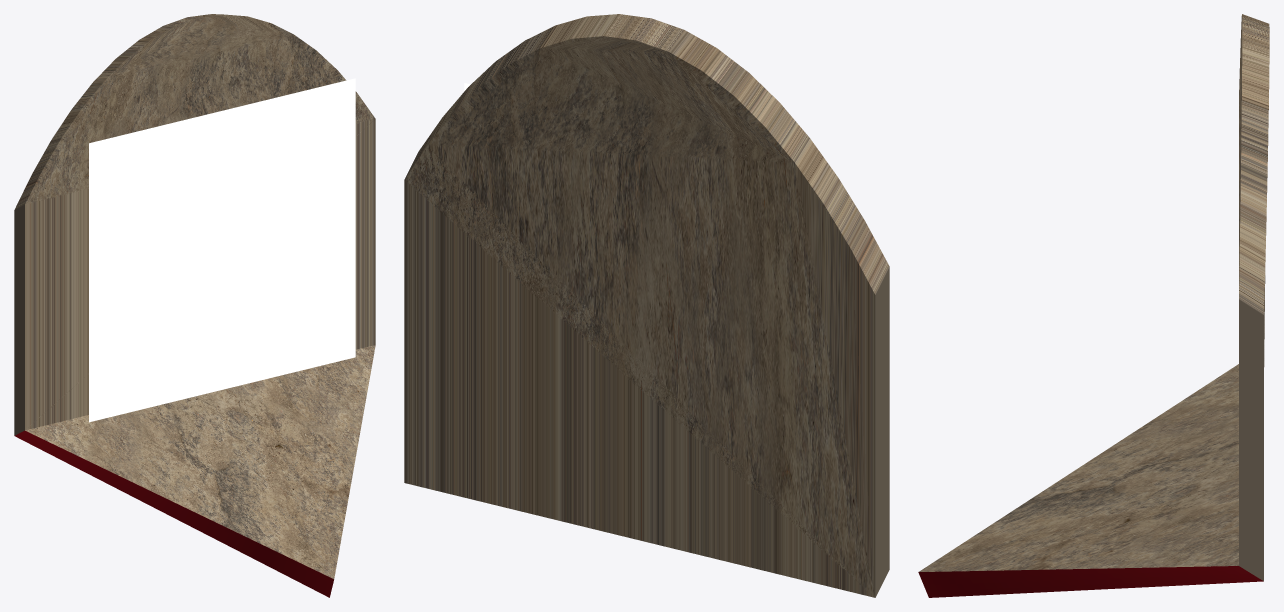
The model's file is tomb.glb.
3 views of the same model, side by side, from view 1: azimuth 30°, elevation 25°; view 2: azimuth 150°, elevation 25°; view 3: azimuth 270°, elevation 25° (orthographic). The views are drawn at different scales.
Visible parts, largest first — view 1: tomb, words; view 2: tomb; view 3: tomb.
Part boxes in pixels (bbox=[...]): tomb: bbox=[14, 14, 375, 597]; words: bbox=[89, 78, 355, 422]; tomb: bbox=[404, 14, 889, 597]; tomb: bbox=[918, 14, 1269, 597].
Size of the model in its own units: 2.83 by 3.72 by 2.08.
Materials: 3 (1 with a texture image).
